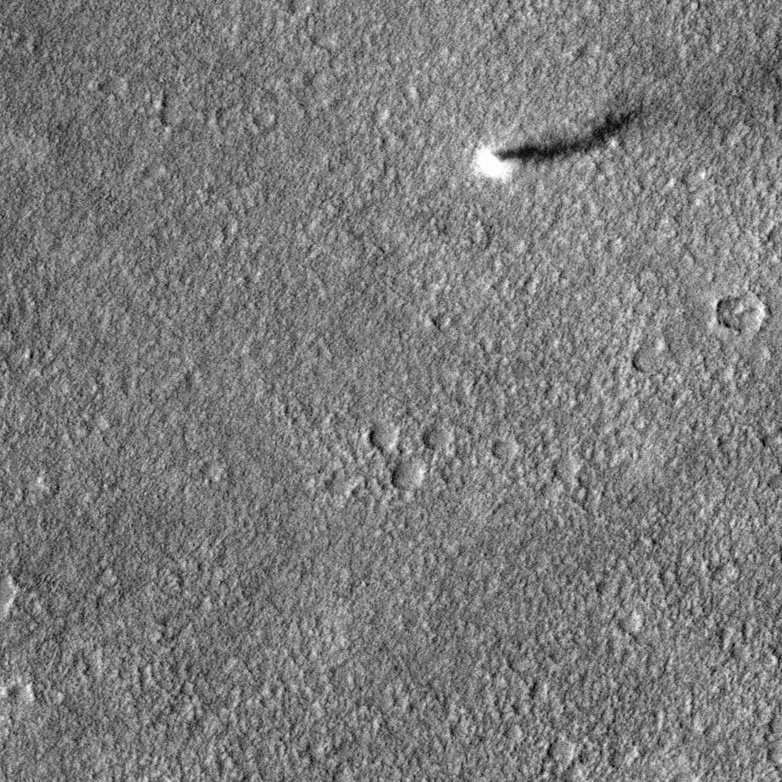dust_devil: (468, 99, 649, 184)
